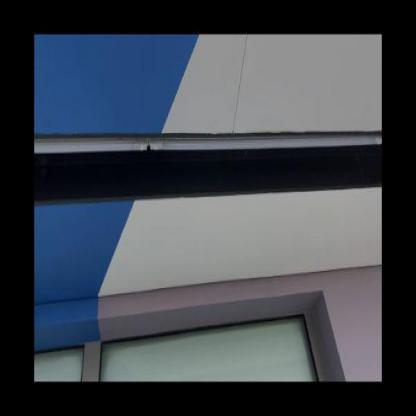light_off: (36, 100, 382, 178)
